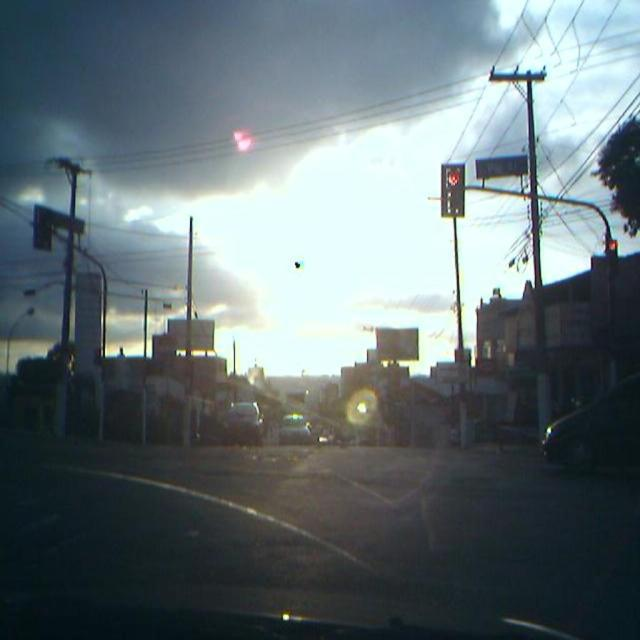traffic light: (440, 161, 465, 215), (604, 237, 618, 271)
